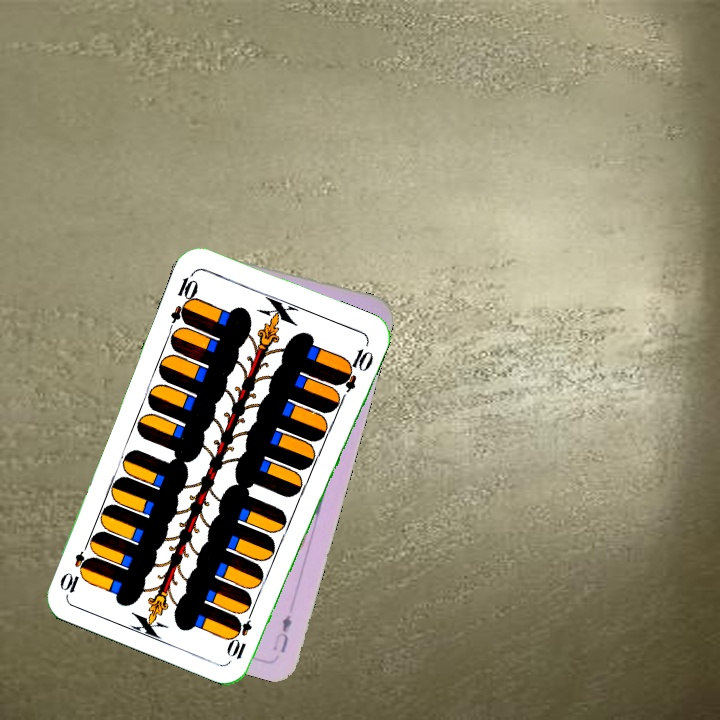E10: (166, 268, 201, 326), (226, 604, 257, 662)
EU: (269, 611, 294, 656)
